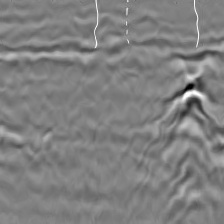Utility: (146, 68, 224, 172)
